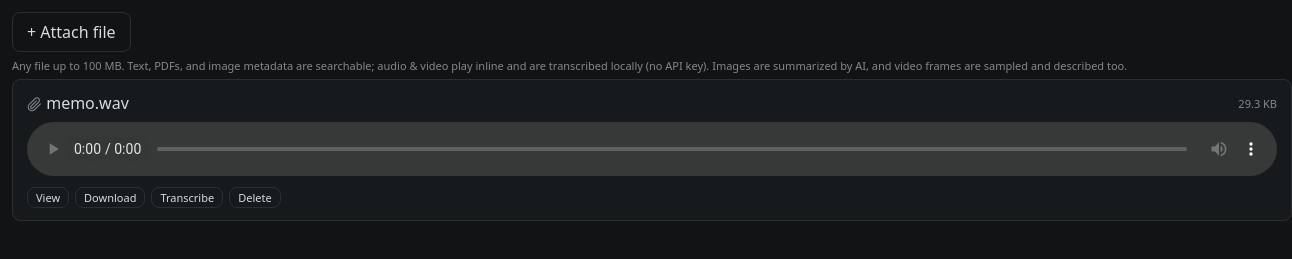
Test: Attachments — enrich › Transcribe posts to /transcribe for an audio attachment
This screenshot has width=1292, height=259.
Click the button "Transcribe" at (187,198), box [151,187,223,208]
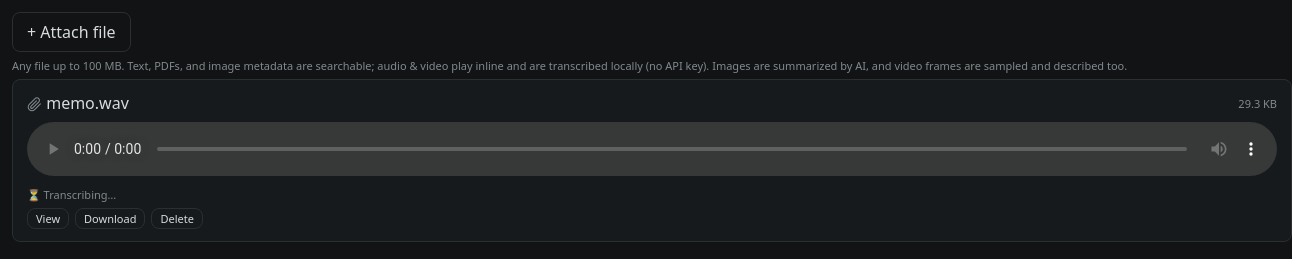
Now the text "⏳ Transcribing…" is shown, box [27,187,116,202]
